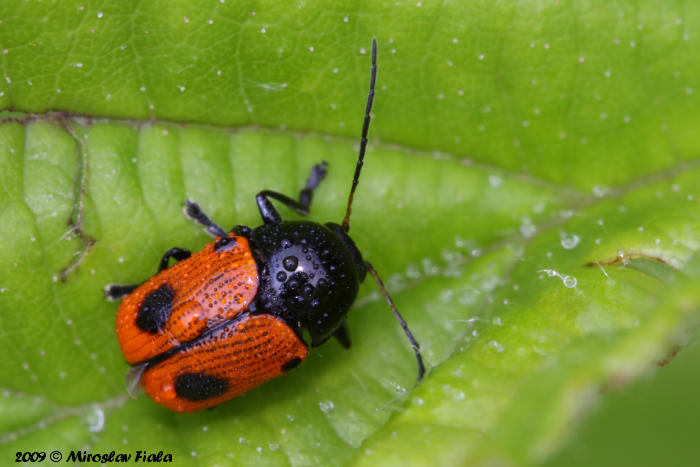Cryptocephalus_bipunctatus: (105, 35, 434, 414)
